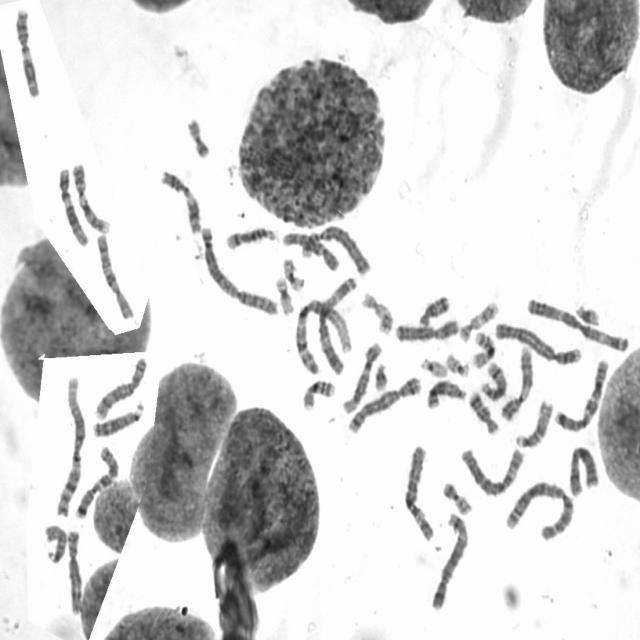A1: (291, 292, 355, 375), (52, 371, 86, 518)
A2: (197, 220, 281, 318), (501, 475, 576, 542)
A3: (522, 291, 631, 353), (313, 271, 359, 375)
B4: (491, 317, 584, 366), (298, 220, 372, 276)
B5: (343, 371, 423, 435), (426, 507, 470, 612)
C10: (92, 227, 136, 321), (278, 226, 340, 272)
C11: (156, 164, 203, 236), (12, 2, 42, 99)
C12: (338, 337, 383, 415), (54, 161, 90, 248)
C6: (457, 440, 526, 499), (400, 440, 437, 542)
C7: (551, 353, 611, 433), (70, 440, 120, 520)
C8: (91, 352, 149, 421), (62, 523, 84, 616)
C9: (68, 157, 112, 235), (496, 339, 535, 422)
D13: (88, 396, 146, 439), (423, 374, 468, 410)
D14: (221, 220, 279, 251), (477, 356, 508, 402)
D15: (512, 394, 554, 449), (41, 520, 68, 564)
E16: (299, 374, 337, 412), (468, 326, 497, 369)
E17: (455, 296, 500, 344), (358, 286, 395, 336)
E18: (465, 385, 501, 435), (414, 289, 452, 327)
F19: (278, 252, 306, 292), (271, 272, 296, 316)
F20: (438, 476, 474, 516), (183, 111, 212, 159)
G21: (572, 297, 601, 326), (371, 358, 390, 392)
G22: (442, 348, 471, 378), (417, 352, 449, 378)
X: (391, 313, 461, 343), (565, 440, 601, 498)
